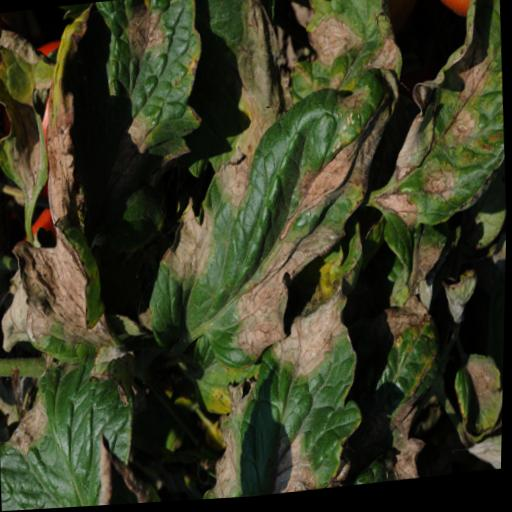Late Blight: (130, 53, 411, 375), (354, 0, 512, 297), (0, 87, 141, 375), (194, 280, 376, 496), (0, 355, 160, 512), (86, 0, 216, 177)
